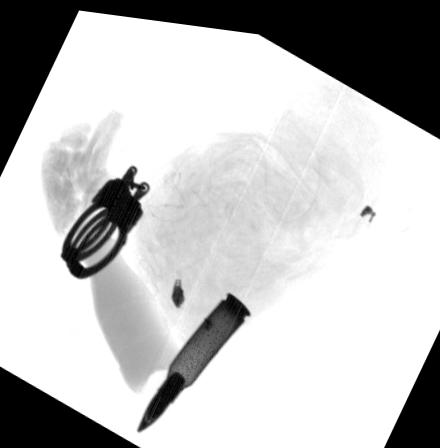Bullet: (137, 285, 251, 429)
HandCuffs: (57, 162, 152, 276)
